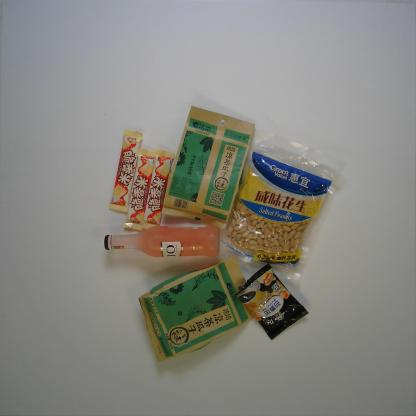Alcohol: (104, 224, 220, 258)
Chocolate: (140, 148, 176, 230), (108, 129, 143, 213), (123, 147, 156, 231)
Dried Food: (137, 254, 255, 364), (161, 104, 256, 229)
Dried Fruit: (218, 128, 348, 285)
Instant Drink: (234, 261, 310, 341)
